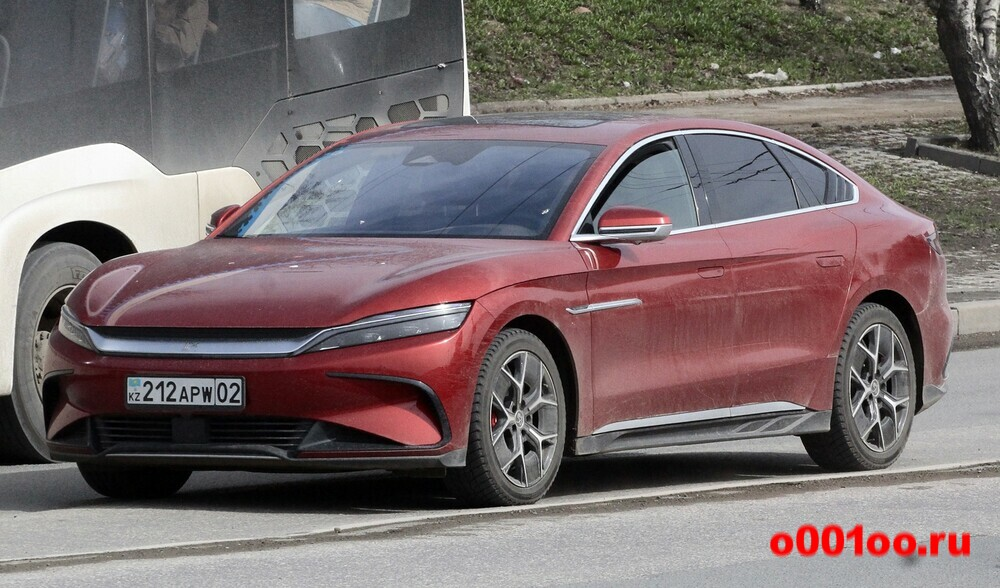license_plate: (126, 375, 246, 407)
